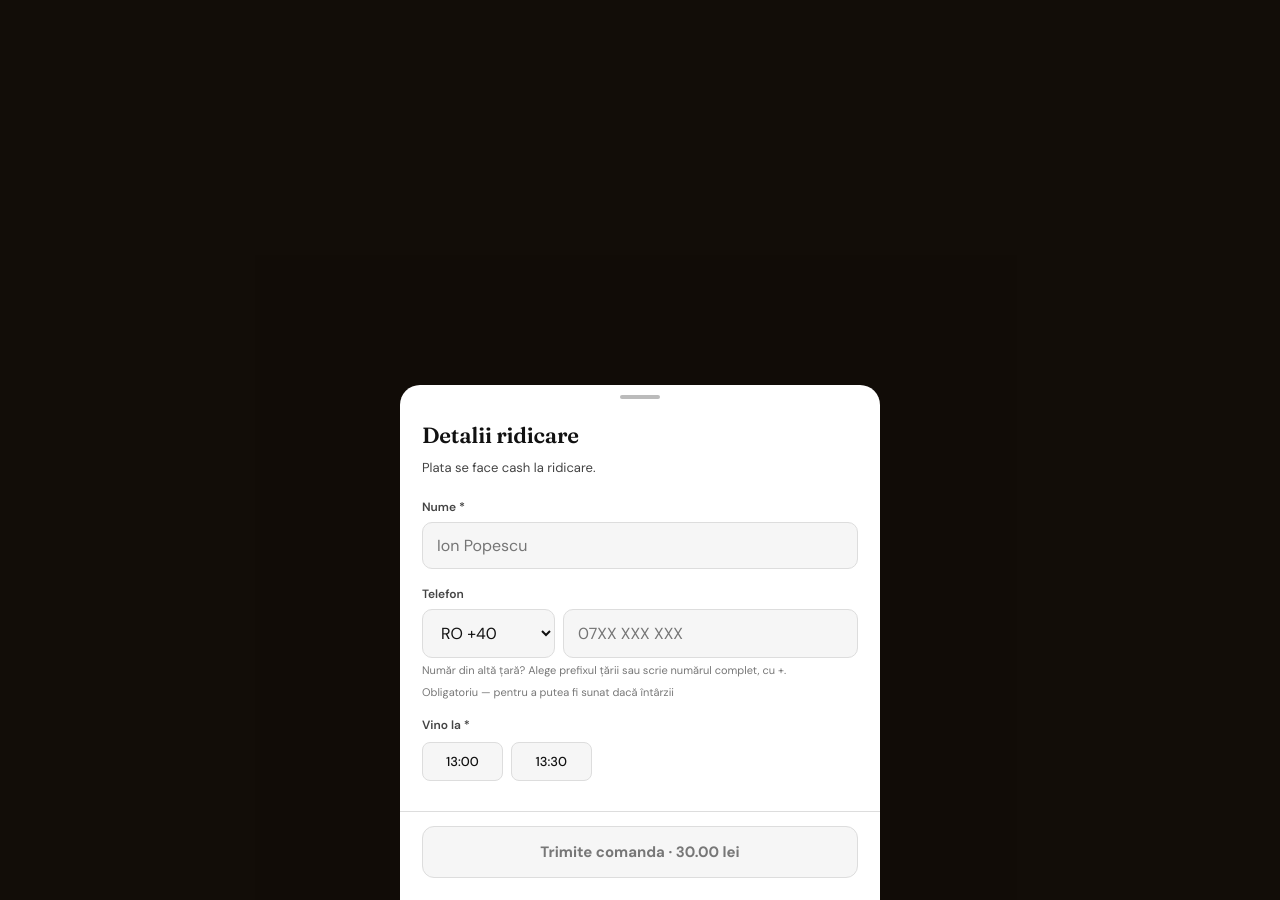
Test: PickupCheckoutSheet — telefonul în E.164 (PH-4) › S8 un număr inutilizabil nu ajunge la create_order
This screenshot has width=1280, height=900.
Type "Ana Pop" into the field with placeholder "Ion Popescu".
click(640, 545); type("Ana Pop")  # box [422,522,858,569]
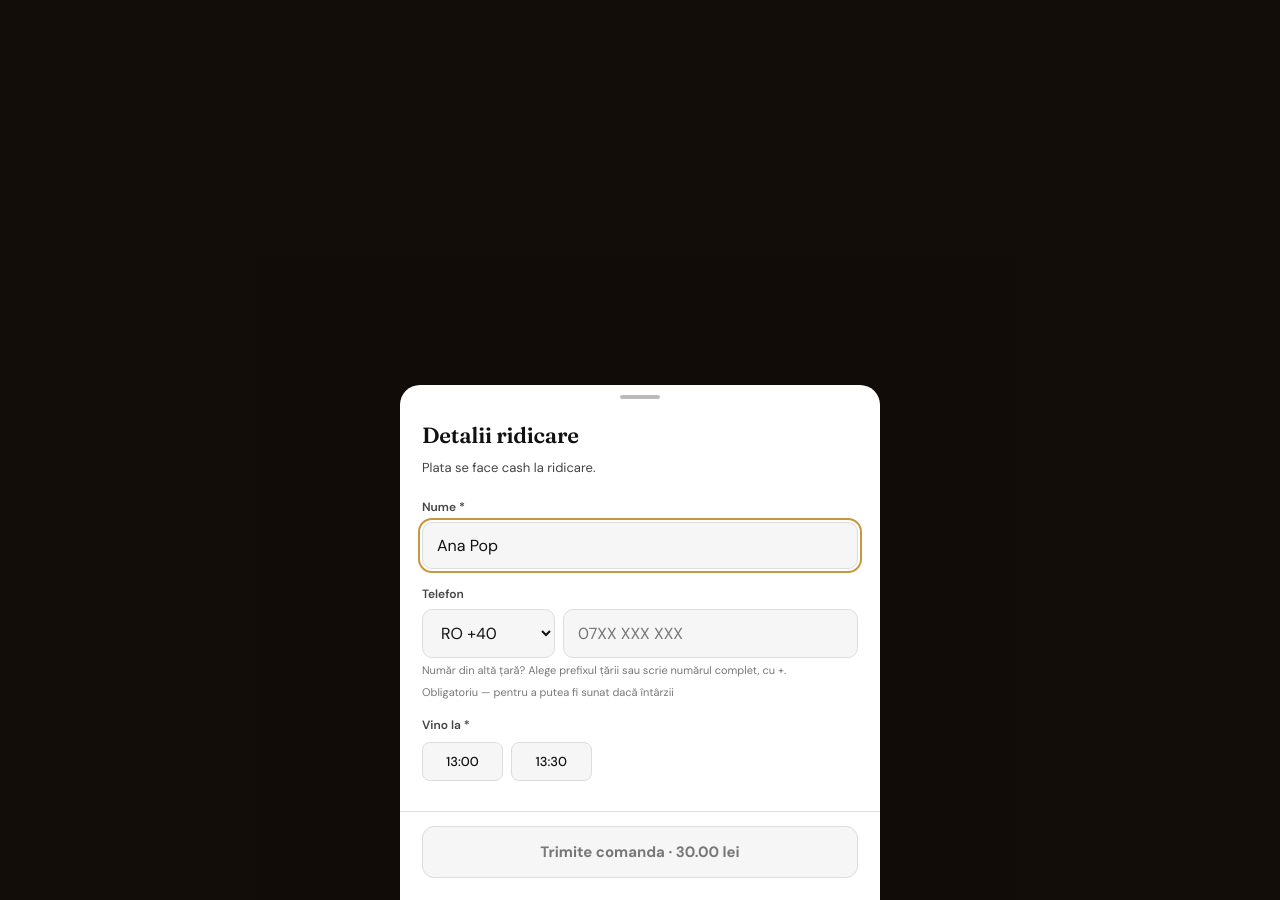
Type "12345" into the field with placeholder "07XX XXX XXX".
click(710, 633); type("12345")  # box [563,609,858,658]
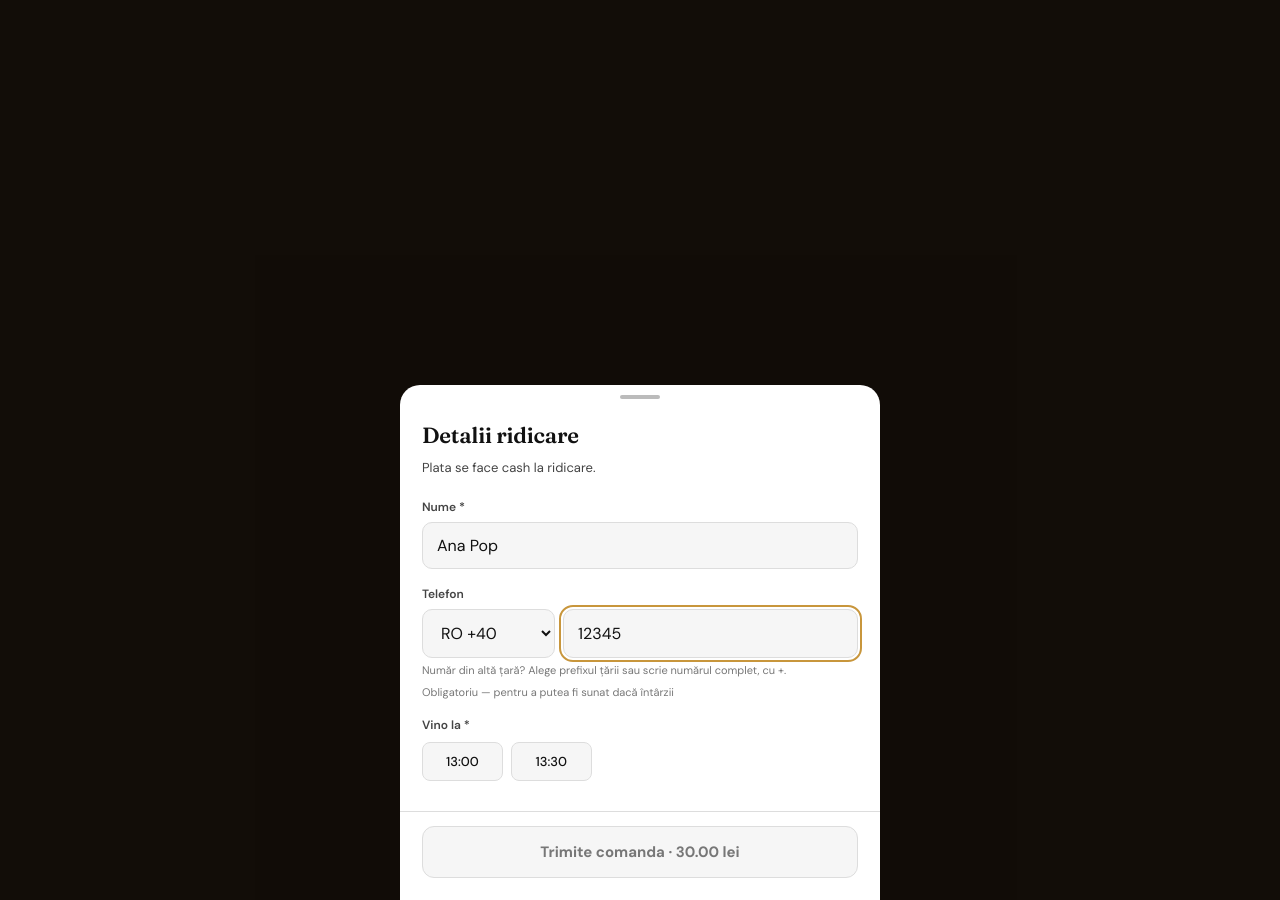
Click the button "13:00".
click(462, 762)  # box [422,742,503,781]
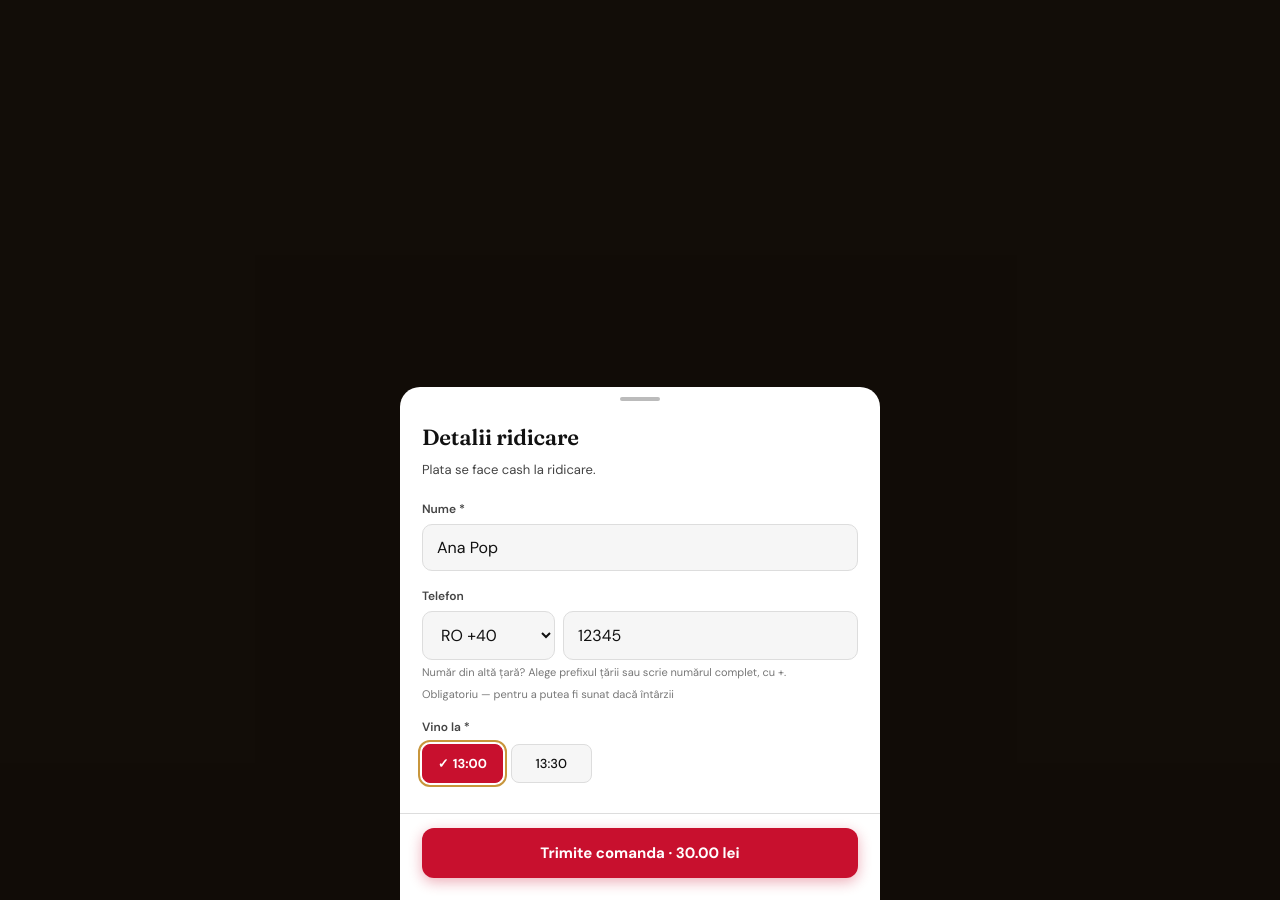
Click the button "Trimite comanda · 30.00 lei".
click(640, 853)  # box [422,828,858,878]
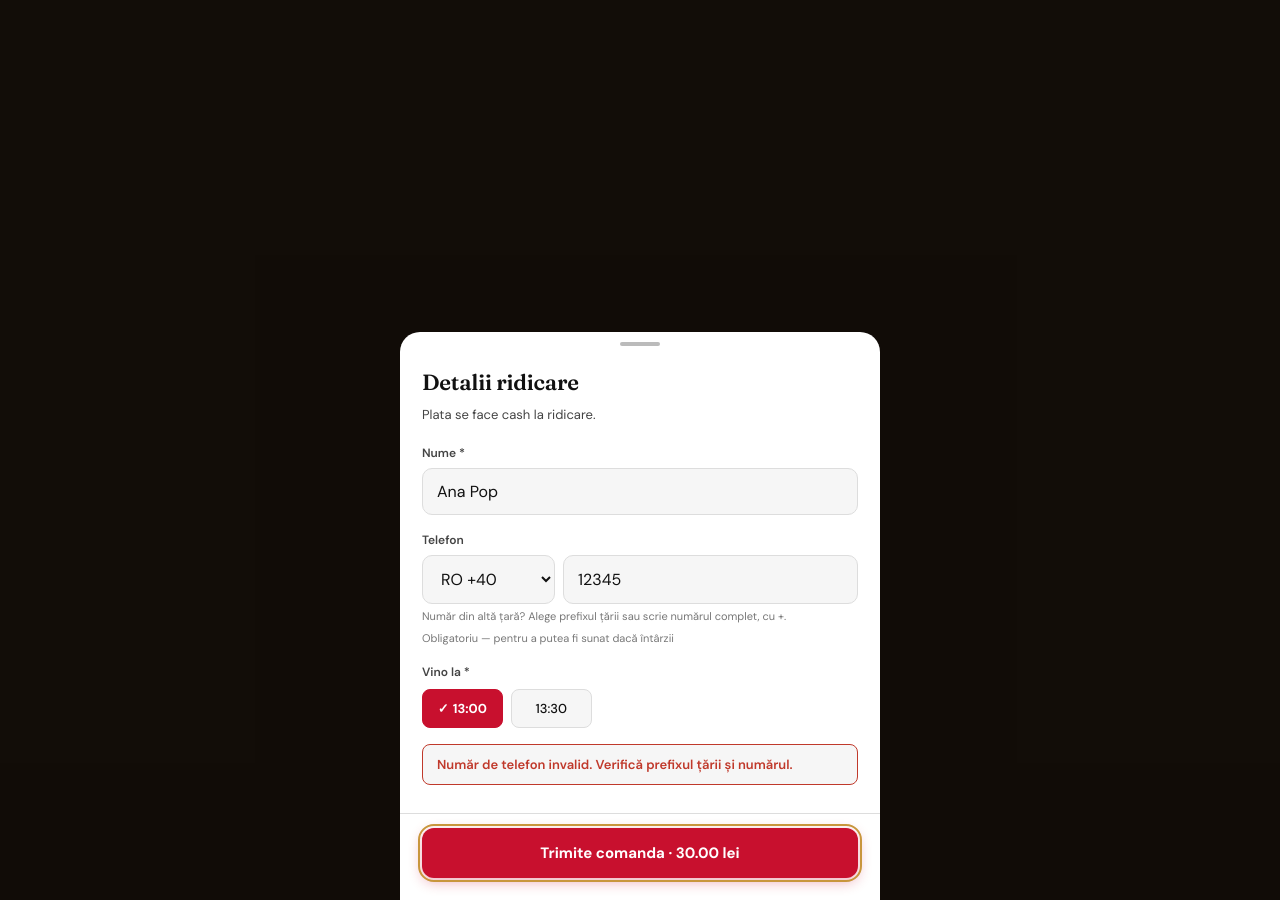
Check: the text "Număr de telefon invalid. Verifică prefixul țării și numărul." is shown, box [422,744,858,785]
